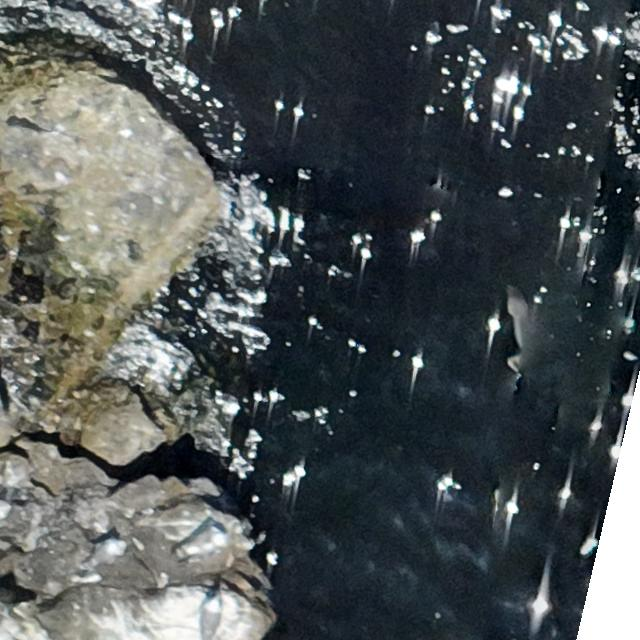umineko: (85, 540, 126, 568), (196, 593, 220, 640)
